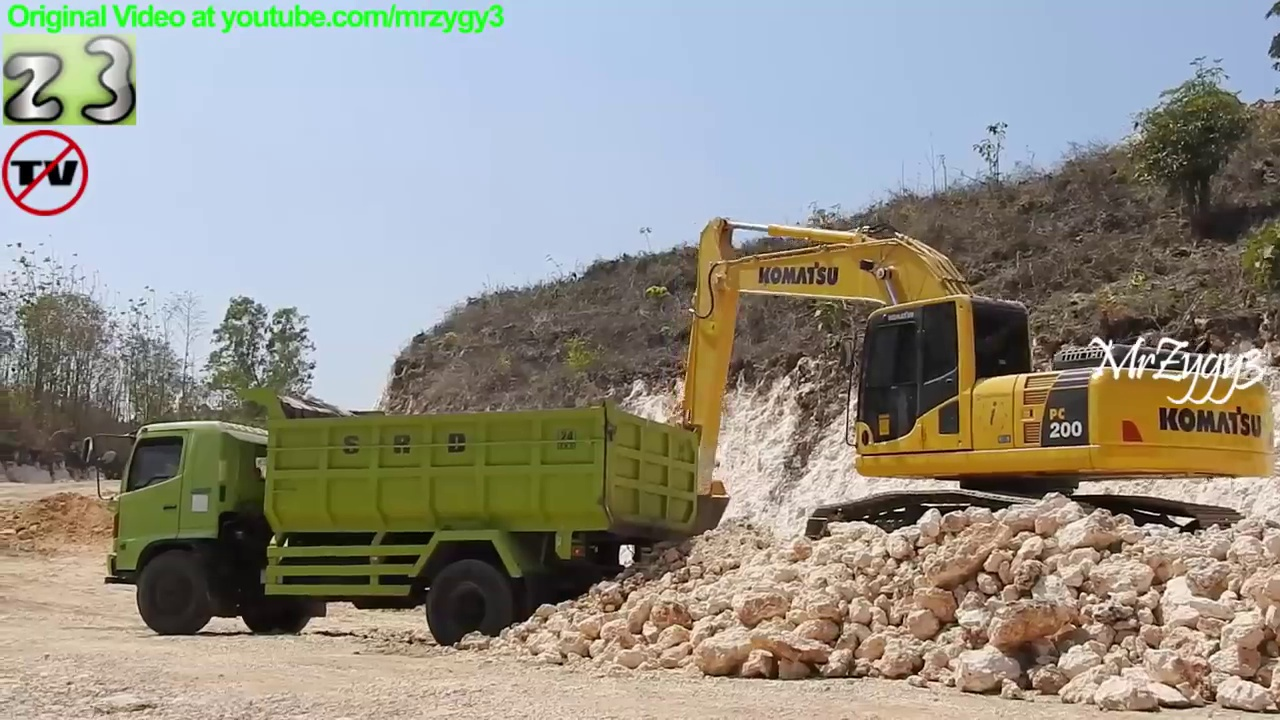excavator: (634, 213, 1280, 576)
truck: (74, 386, 706, 651)
